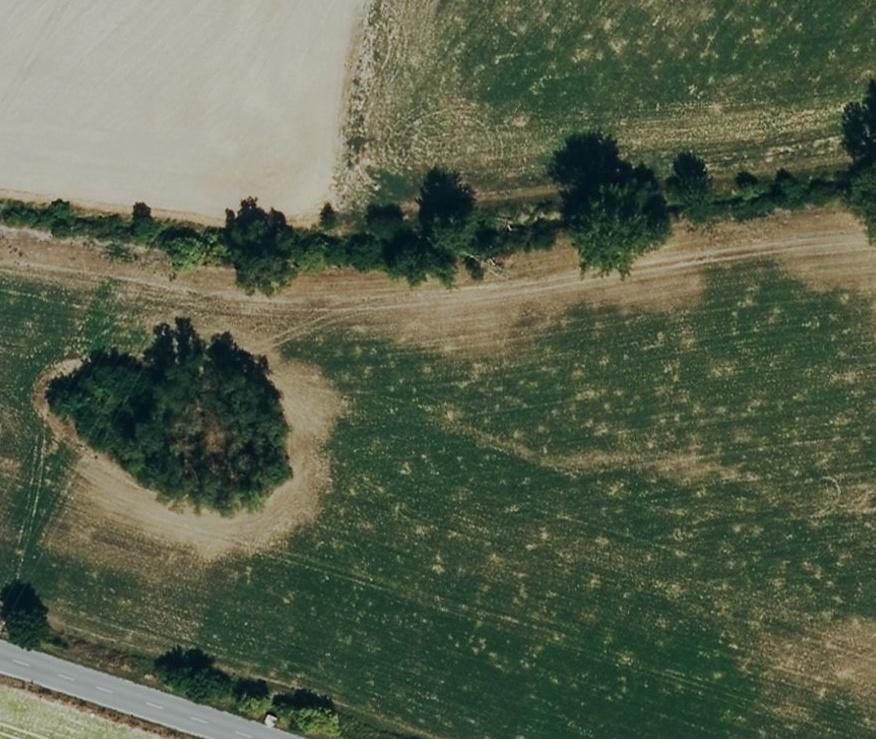field: (0, 212, 876, 736), (0, 0, 876, 219)
forest: (0, 168, 669, 293), (48, 318, 291, 512)
